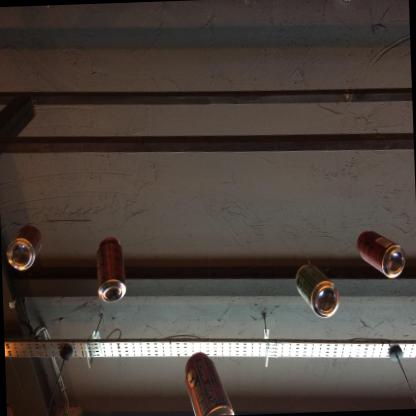Drink can: (185, 352, 234, 416), (357, 231, 406, 278), (296, 265, 339, 318), (97, 238, 126, 303), (7, 226, 43, 270)
